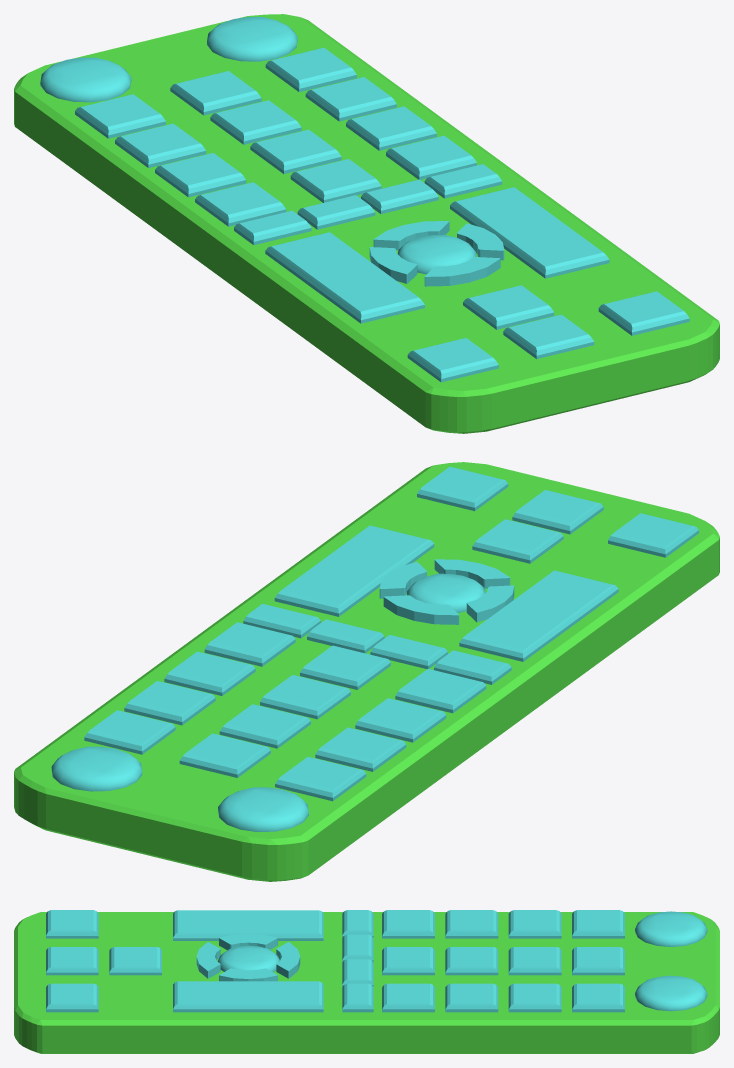
File: control definitivo.fbx
3 views of the same model, one above another, from view 1: azimuth 30°, elevation 25°; view 2: azimuth 150°, elevation 25°; view 3: azimuth 270°, elevation 25° (orthographic). The views are drawn at different scales.
Parts seen in each view (by area): view 1: control, volumen, canales, central2, MENU, power, EXTRA3, boton8, boton11, EXTRA2, boton4, boton7 (+15 smaller); view 2: control, volumen, canales, central2, power, MENU, EXTRA4, boton12, boton3, boton7, EXTRA3, boton11 (+15 smaller); view 3: control, canales, volumen, central2, power, MENU, boton9, boton6, EXTRA3, boton3, boton12, boton5 (+15 smaller).
Part boxes in pixels (left/top/right/bottom): control: left=14, top=14, right=719, bottom=433; volumen: left=265, top=232, right=424, bottom=323; canales: left=450, top=187, right=609, bottom=278; central2: left=369, top=221, right=504, bottom=286; MENU: left=40, top=57, right=131, bottom=102; power: left=207, top=17, right=297, bottom=61; EXTRA3: left=598, top=291, right=689, bottom=335; boton8: left=210, top=100, right=301, bottom=144; boton11: left=170, top=71, right=261, bottom=115; EXTRA2: left=503, top=314, right=594, bottom=359; boton4: left=155, top=153, right=246, bottom=197; boton7: left=115, top=123, right=206, bottom=167; control: left=14, top=462, right=719, bottom=881; volumen: left=459, top=570, right=618, bottom=661; canales: left=274, top=525, right=434, bottom=616; central2: left=379, top=559, right=514, bottom=624; power: left=51, top=746, right=142, bottom=791; MENU: left=218, top=787, right=308, bottom=831; EXTRA4: left=472, top=519, right=563, bottom=563; boton12: left=84, top=710, right=175, bottom=754; boton3: left=204, top=622, right=295, bottom=666; boton7: left=315, top=727, right=406, bottom=771; EXTRA3: left=417, top=466, right=508, bottom=511; boton11: left=179, top=733, right=270, bottom=777; control: left=14, top=912, right=719, bottom=1053; canales: left=173, top=981, right=323, bottom=1012; volumen: left=173, top=910, right=323, bottom=940; central2: left=196, top=934, right=300, bottom=981; power: left=635, top=975, right=707, bottom=1011; MENU: left=635, top=911, right=707, bottom=946; boton9: left=508, top=983, right=561, bottom=1012; boton6: left=445, top=983, right=498, bottom=1012; EXTRA3: left=46, top=983, right=98, bottom=1012; boton3: left=382, top=983, right=434, bottom=1012; boton12: left=572, top=983, right=624, bottom=1012; boton5: left=445, top=947, right=498, bottom=975.
Bounding box in the file's own units: 1101 × 198 × 2906.
